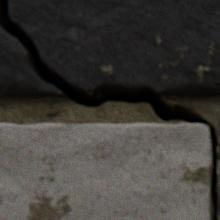brick: (0, 124, 211, 219)
broken_brick: (9, 0, 219, 97), (0, 25, 66, 98)
crack: (0, 0, 218, 219)
